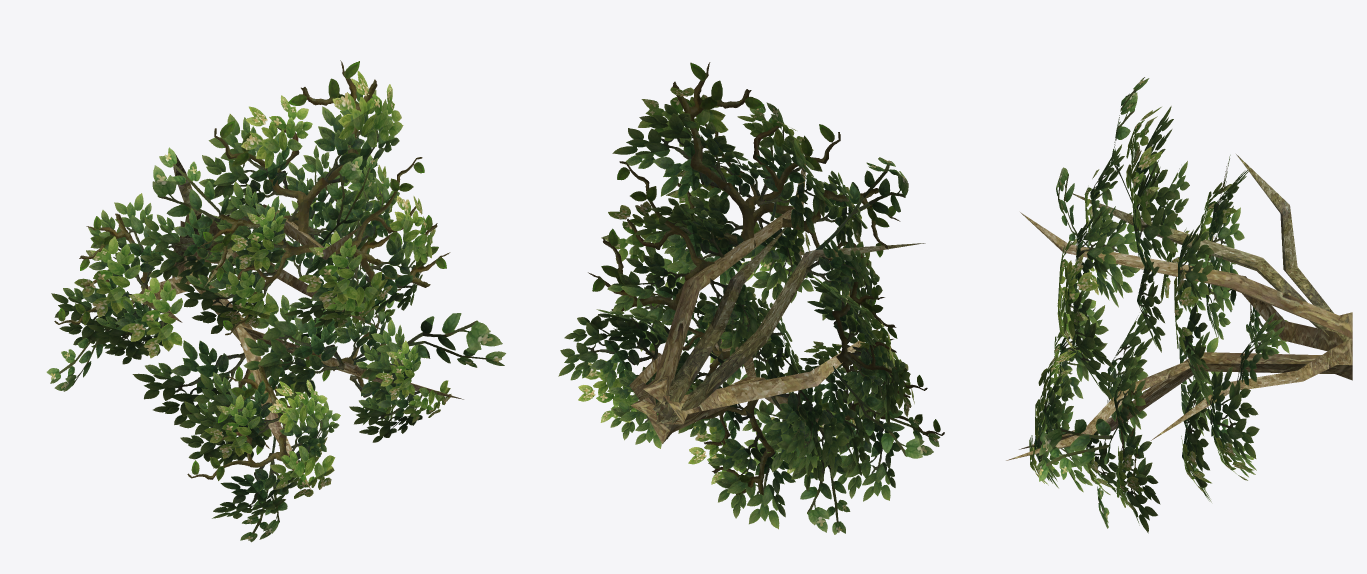
The model's file is guihua.obj.
3 views of the same model, side by side, from view 1: azimuth 30°, elevation 25°; view 2: azimuth 150°, elevation 25°; view 3: azimuth 270°, elevation 25° (orthographic). The views are drawn at different scales.
Parts seen in each view (by area): view 1: guihua; view 2: guihua; view 3: guihua.
Boxes of the visible parts, bbox=[...] form: guihua: bbox=[46, 60, 505, 542]; guihua: bbox=[558, 62, 944, 534]; guihua: bbox=[1006, 77, 1352, 533].
Bounding box in the file's own units: 338 × 389 × 238.
3 materials, 3 textured.
